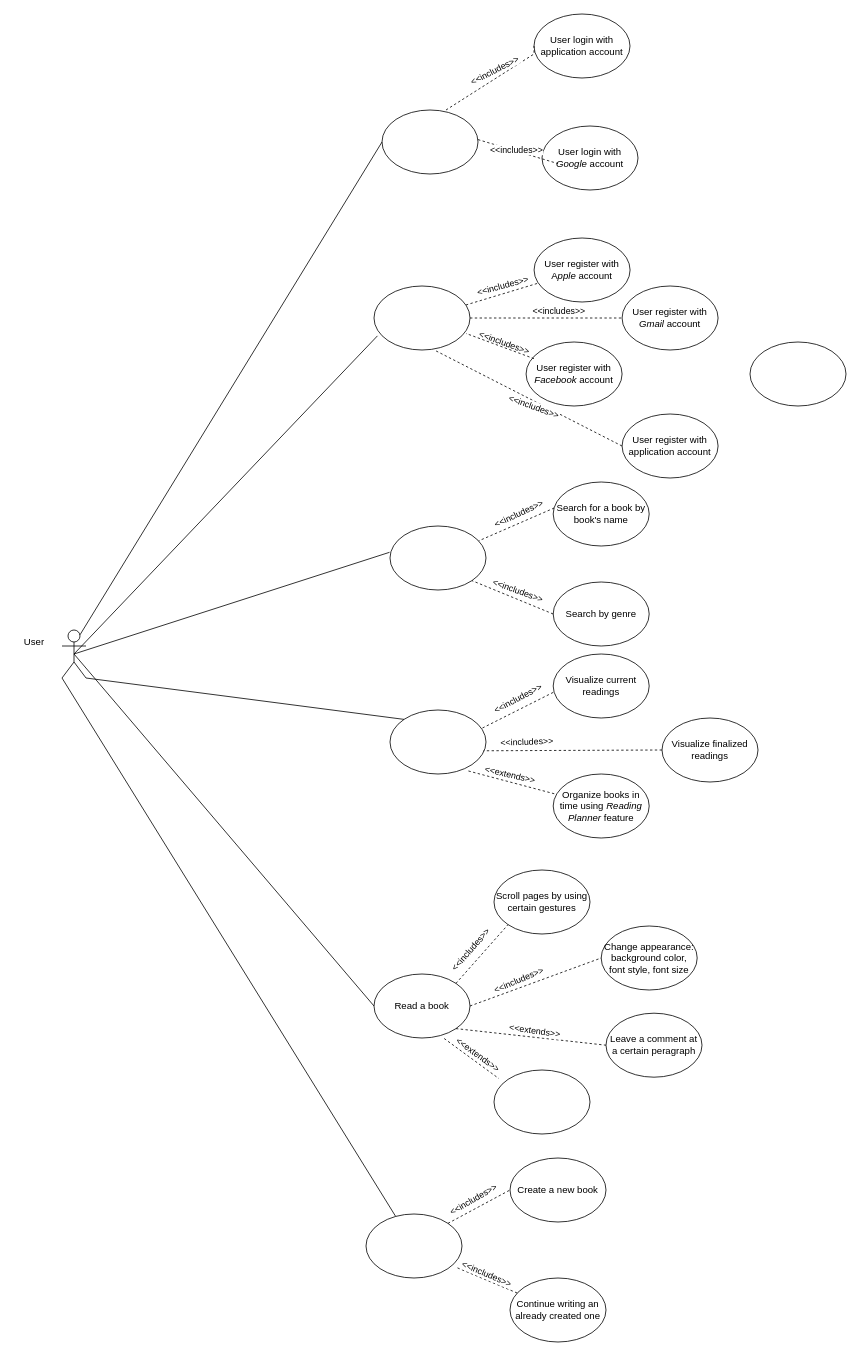
The diagram is 860 pixels wide and 1356 high, and some of its shapes have lost their labels. Here are the shapes that lost their labels. From the top down, the box of each, then its label:
(381, 109, 478, 174): User login
(373, 285, 470, 350): User registration
(749, 341, 846, 406): Choose favorite book genres
(389, 525, 486, 590): Book searching
(61, 629, 86, 678): Actor
(389, 709, 486, 774): Access library
(493, 1069, 590, 1134): Listen to an associated song
(365, 1213, 462, 1278): Write a book
